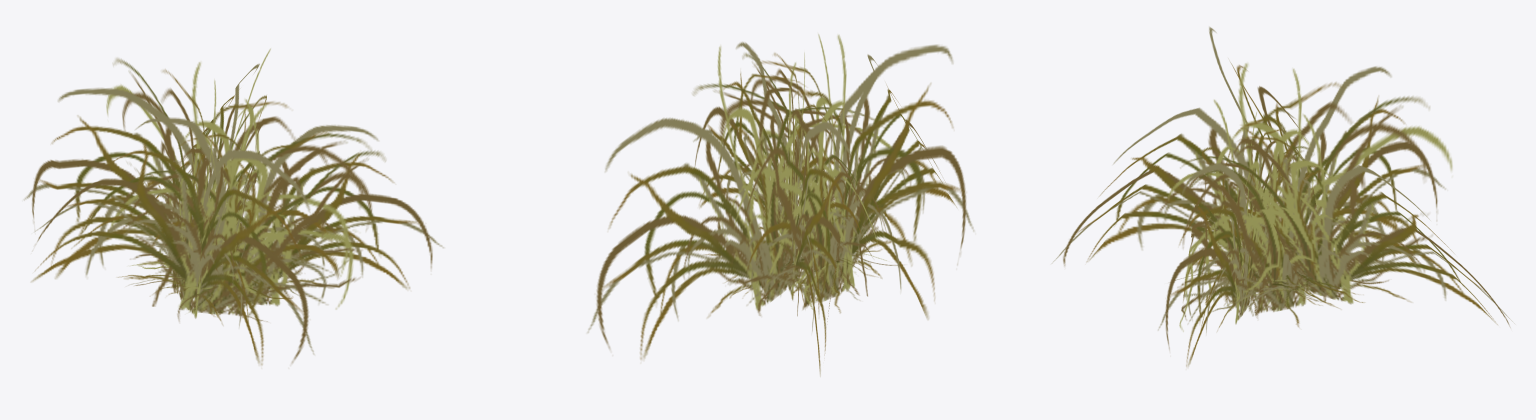
File: short_dry.glb
3 views of the same model, side by side, from view 1: azimuth 30°, elevation 25°; view 2: azimuth 150°, elevation 25°; view 3: azimuth 270°, elevation 25° (orthographic). The views are drawn at different scales.
Parts seen in each view (by area): view 1: short_dry; view 2: short_dry; view 3: short_dry.
Part boxes in pixels (box(x1,y1,x2,y2)): short_dry: box(24, 48, 443, 365); short_dry: box(587, 34, 974, 376); short_dry: box(1052, 26, 1512, 366).
Size of the model in its own units: 0.3406 by 0.2512 by 0.4127.
Materials: 1 (1 with a texture image).
